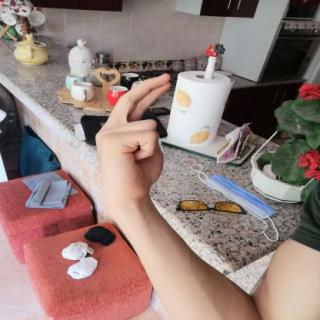ZAY: (88, 67, 180, 212)
